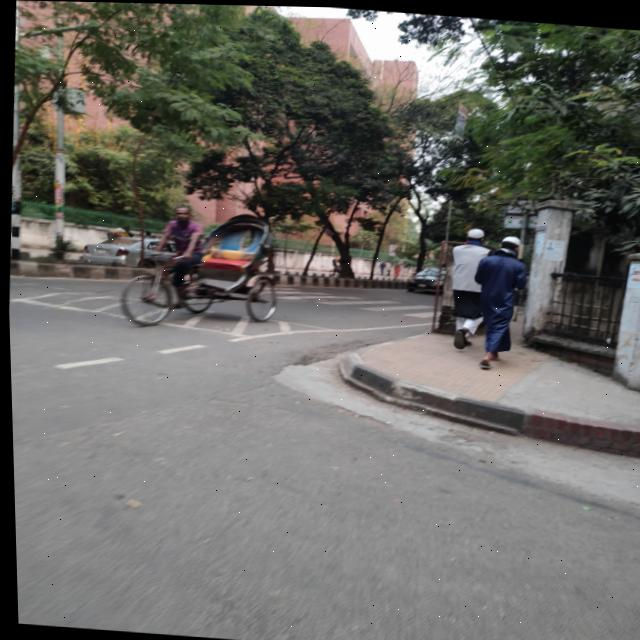rikshaw: (142, 183, 293, 353)
